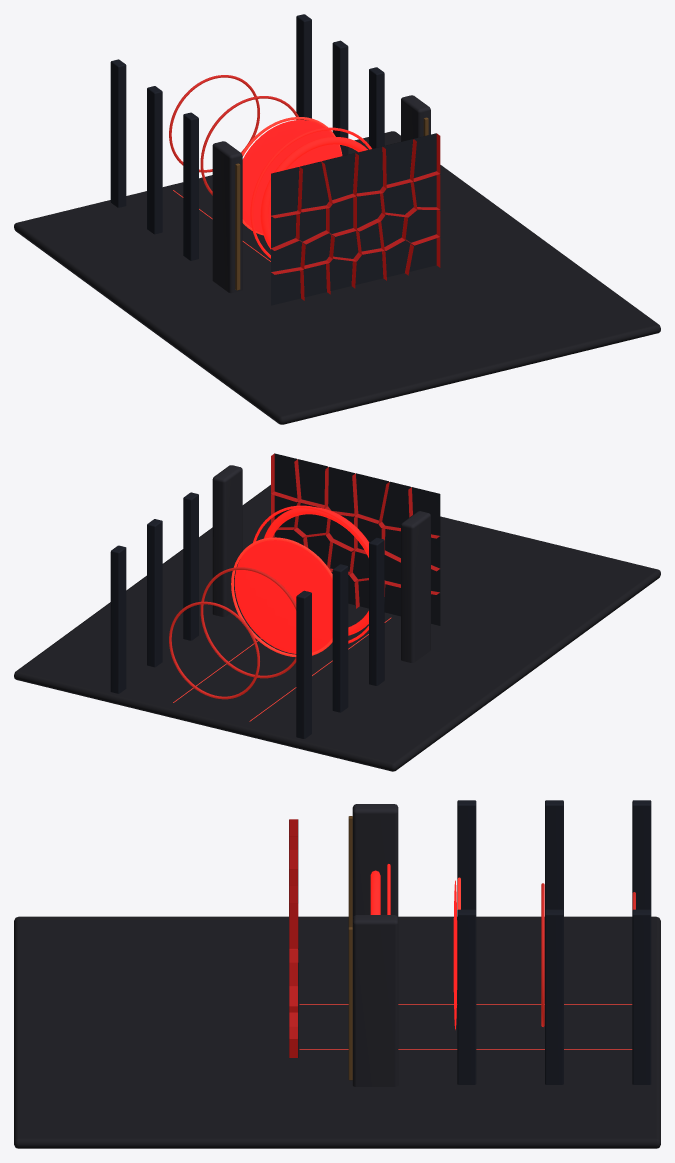
3 views of the same model, one above another, from view 1: azimuth 30°, elevation 25°; view 2: azimuth 150°, elevation 25°; view 3: azimuth 270°, elevation 25° (orthographic). The views are drawn at different scales.
Visible parts, largest first — view 1: ENV_floor, PORTAL_red_disc, ENV_pillar_-1, ENV_tunnel_pillar_8.0_-1, ENV_tunnel_pillar_3.4_-1, ENV_tunnel_pillar_5.7_-1, ENV_tunnel_pillar_5.7_1, ENV_tunnel_pillar_8.0_1, SHARD_18, SHARD_20, SHARD_21, PORTAL_main (+27 smaller); view 2: ENV_floor, PORTAL_red_disc, ENV_pillar_-1, ENV_pillar_1, ENV_tunnel_pillar_5.7_-1, ENV_tunnel_pillar_8.0_1, ENV_tunnel_pillar_3.4_-1, ENV_tunnel_pillar_5.7_1, ENV_tunnel_pillar_8.0_-1, ENV_tunnel_pillar_3.4_1, SHARD_20, SHARD_21 (+19 smaller); view 3: ENV_floor, ENV_pillar_1, ENV_pillar_-1, ENV_tunnel_pillar_8.0_1, ENV_tunnel_pillar_3.4_1, ENV_tunnel_pillar_5.7_1, ENV_tunnel_pillar_8.0_-1, ENV_tunnel_pillar_3.4_-1, ENV_tunnel_pillar_5.7_-1, ENV_trim_1, SHARD_23, PORTAL_red_disc (+2 smaller).
Part boxes in pixels (x1,y1,x2,y2): ENV_floor: (14,131,660,424); PORTAL_red_disc: (242,120,341,233); ENV_pillar_-1: (212,141,242,293); ENV_tunnel_pillar_8.0_-1: (110,59,126,207); ENV_tunnel_pillar_3.4_-1: (183,112,198,260); ENV_tunnel_pillar_5.7_-1: (147,86,162,234); ENV_tunnel_pillar_5.7_1: (332,40,348,155); ENV_tunnel_pillar_8.0_1: (296,14,311,120); SHARD_18: (271,167,302,218); SHARD_20: (322,153,358,203); SHARD_21: (356,146,386,196); PORTAL_main: (260,137,367,249); ENV_floor: (14,485,660,771); PORTAL_red_disc: (234,540,332,653); ENV_pillar_-1: (401,511,430,662); ENV_pillar_1: (212,465,242,616); ENV_tunnel_pillar_5.7_-1: (332,564,348,712); ENV_tunnel_pillar_8.0_1: (110,545,126,693); ENV_tunnel_pillar_3.4_-1: (369,537,384,685); ENV_tunnel_pillar_5.7_1: (147,519,162,667); ENV_tunnel_pillar_8.0_-1: (296,590,311,738); ENV_tunnel_pillar_3.4_1: (183,492,198,640); SHARD_20: (352,473,388,523); SHARD_21: (324,467,354,516); ENV_floor: (14,916,660,1148); ENV_pillar_1: (352,915,398,1086); ENV_pillar_-1: (352,804,398,917); ENV_tunnel_pillar_8.0_1: (632,909,651,1084); ENV_tunnel_pillar_3.4_1: (457,909,476,1084); ENV_tunnel_pillar_5.7_1: (545,909,563,1084); ENV_tunnel_pillar_8.0_-1: (632,800,651,910); ENV_tunnel_pillar_3.4_-1: (457,800,476,910); ENV_tunnel_pillar_5.7_-1: (545,800,563,910); ENV_trim_1: (348,927,352,1080); SHARD_23: (289,903,298,962); PORTAL_red_disc: (453,880,457,1029).
Bounding box in the file's own units: 14 × 5.25 × 17.
